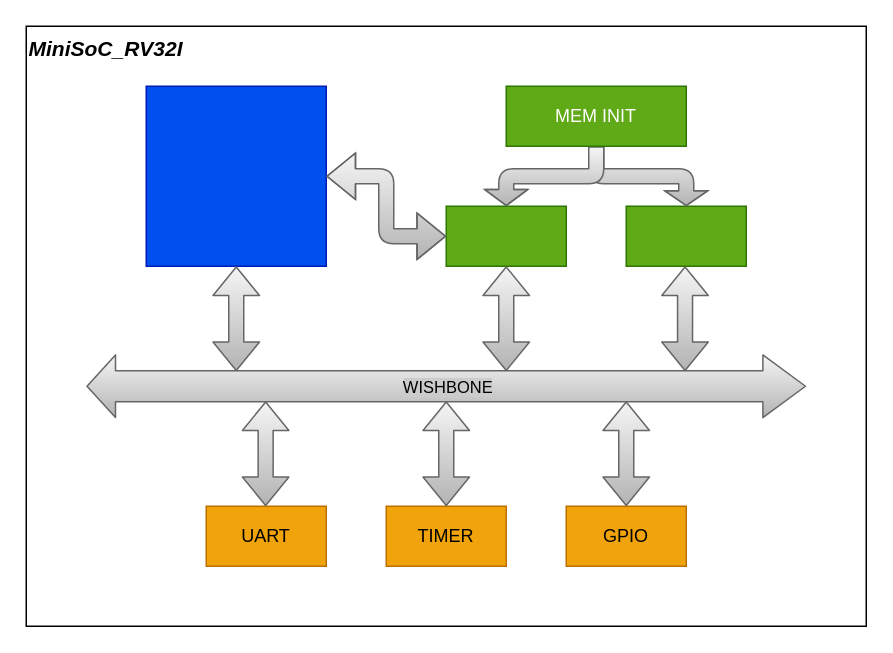
The diagram is 893 pixels wide and 653 high, and some of its shapes have lost their labels. Each missing label, with the box of its shape:
DMEM: (625, 205, 746, 266)
IMEM: (445, 205, 566, 266)
RISC-V CPU: (145, 85, 326, 266)
